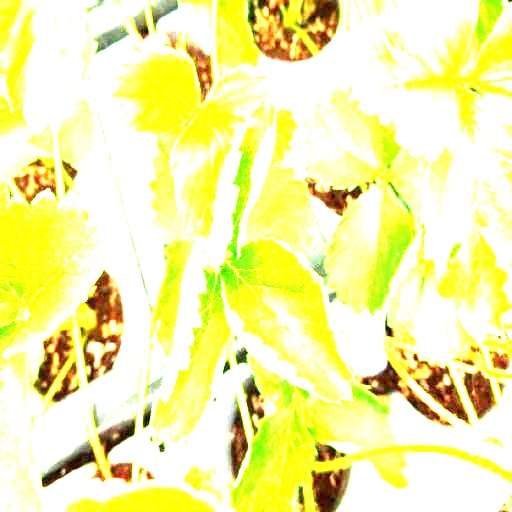Powdery Mildew Leaf: (219, 235, 358, 405), (348, 0, 481, 161), (147, 235, 235, 453), (206, 99, 277, 272)
